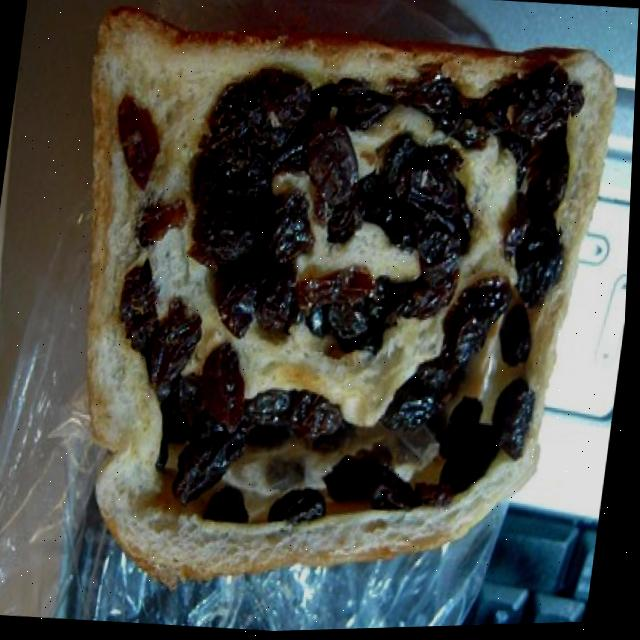面包点心: (34, 0, 620, 626)
